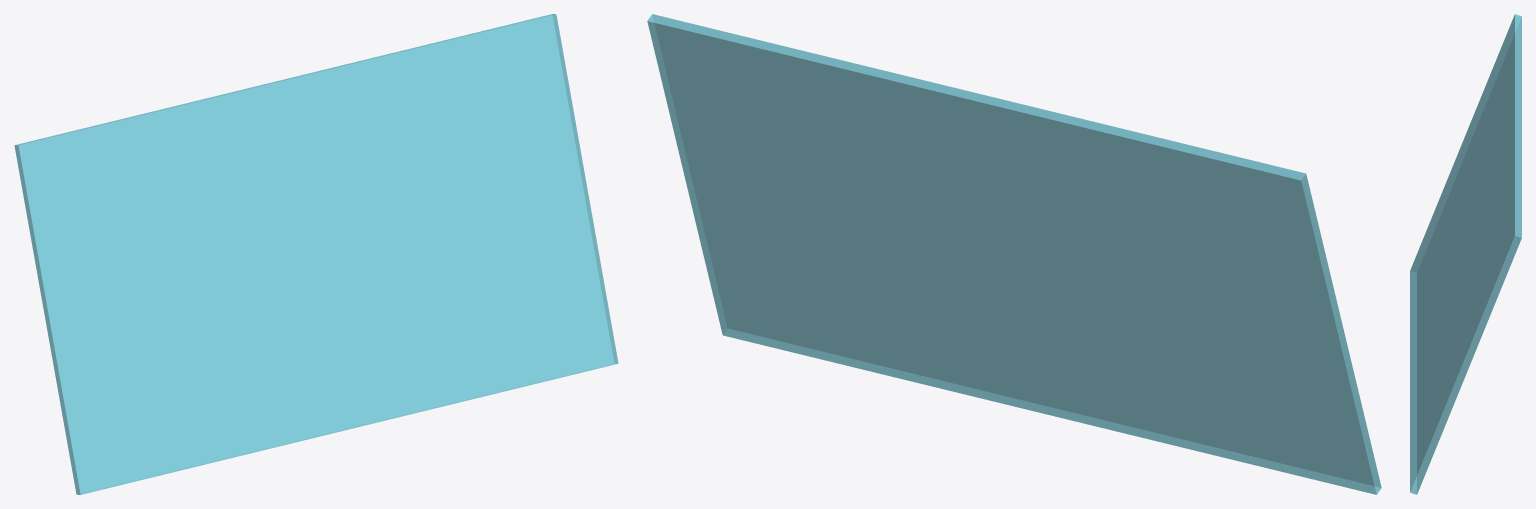
Rendered from Window.glb.
3 views of the same model, side by side, from view 1: azimuth 30°, elevation 25°; view 2: azimuth 150°, elevation 25°; view 3: azimuth 270°, elevation 25° (orthographic). The views are drawn at different scales.
Parts seen in each view (by area): view 1: Plane.149; view 2: Plane.149; view 3: Plane.149.
Part boxes in pixels (box(x1,y1,x2,y2)): Plane.149: box(14, 14, 618, 494); Plane.149: box(647, 14, 1381, 494); Plane.149: box(1410, 14, 1521, 494).
Size of the model in its own units: 3.47 by 1.89 by 0.7402.
